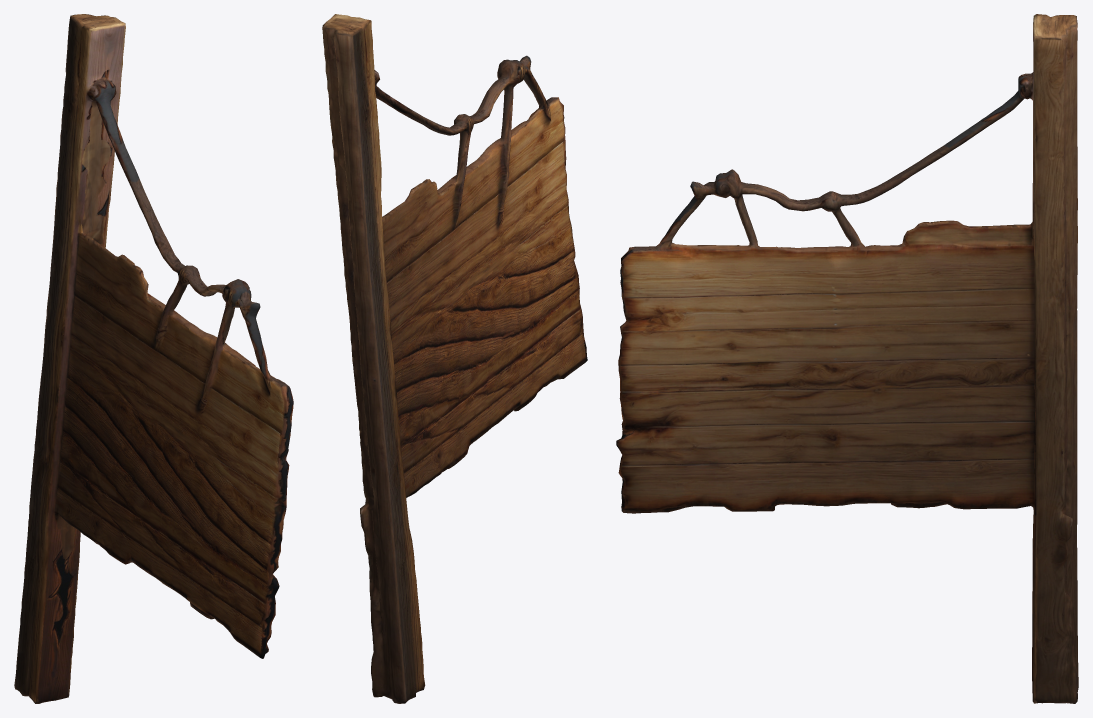
File: InfoSign.fbx
The picture shows the model from 3 angles, left to right: view 1: azimuth 30°, elevation 25°; view 2: azimuth 150°, elevation 25°; view 3: azimuth 270°, elevation 25°; orthographic projection. The views are drawn at different scales.
Parts seen in each view (by area): view 1: Mesh_0; view 2: Mesh_0; view 3: Mesh_0.
Boxes of the visible parts, <box> form: Mesh_0: <box>14,14,293,703</box>; Mesh_0: <box>322,14,587,703</box>; Mesh_0: <box>616,14,1078,703</box>.
Bounding box in the file's own units: 29.44 × 201 × 120.
Materials: 1 (1 with a texture image).
